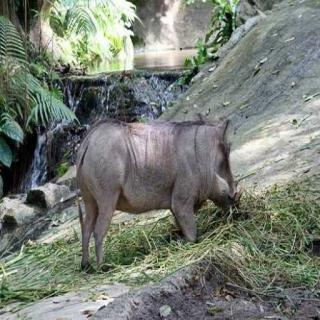Pig: (76, 93, 260, 245)
